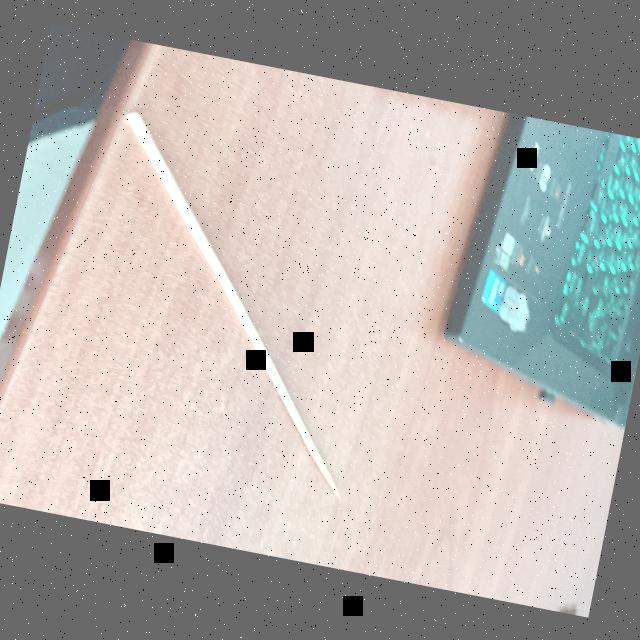stick: (45, 95, 418, 511)
